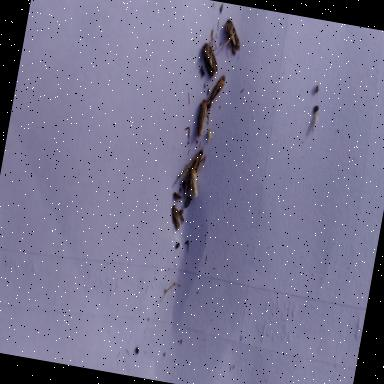pbw: (196, 42, 222, 84), (219, 18, 245, 57), (186, 144, 205, 186), (184, 166, 203, 206), (196, 100, 214, 140), (207, 72, 226, 108), (180, 151, 200, 183), (168, 204, 187, 234), (172, 192, 183, 204), (207, 130, 214, 144)
